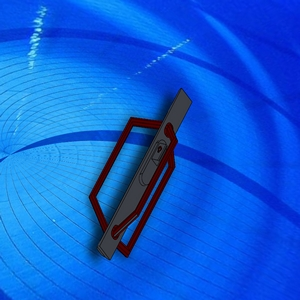submarine: (85, 81, 201, 267)
